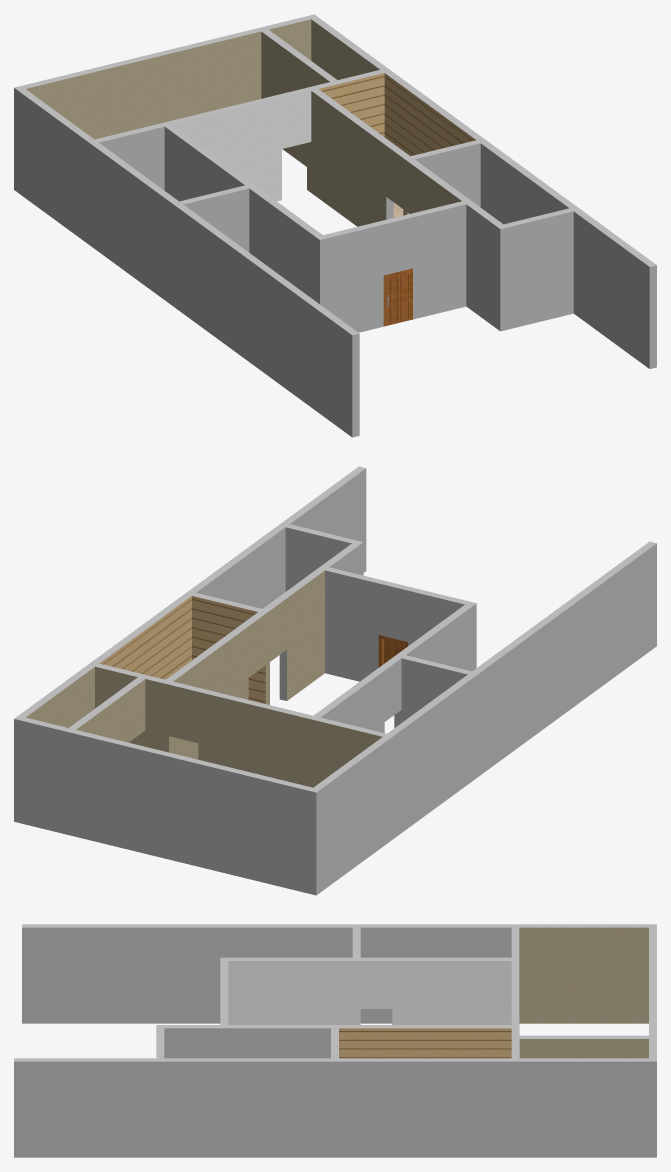
Rendered from design_1754154352422_design_rumah1.glb.
The picture shows the model from 3 angles, top to bottom: view 1: azimuth 30°, elevation 25°; view 2: azimuth 150°, elevation 25°; view 3: azimuth 270°, elevation 25°; orthographic projection. The views are drawn at different scales.
Visible parts, largest first — view 1: root; view 2: root; view 3: root.
Boxes of the visible parts, x1,y1,x2,y2 form: root: [14, 14, 656, 437]; root: [14, 466, 656, 895]; root: [14, 924, 656, 1157].
Bounding box in the file's own units: 6.15 × 2 × 12.15.
Materials: 8 (7 with a texture image).
